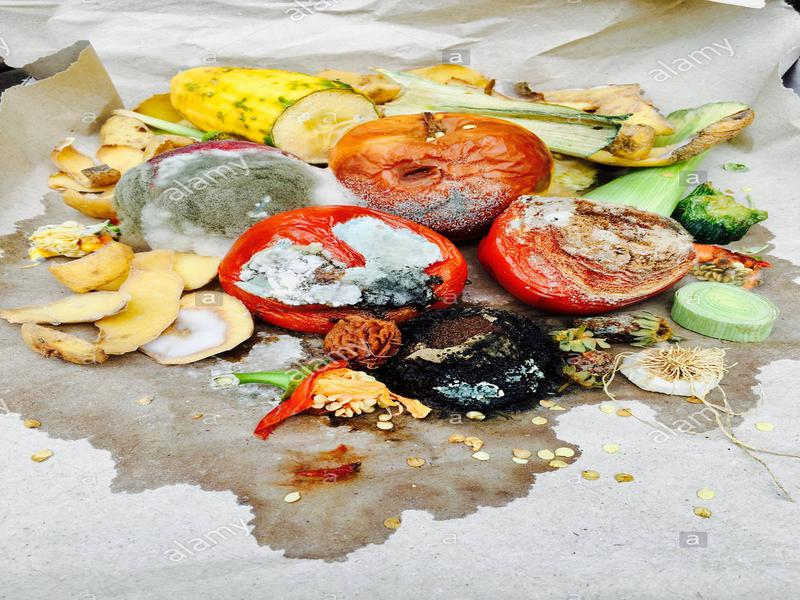vegetation: (2, 47, 800, 512)
